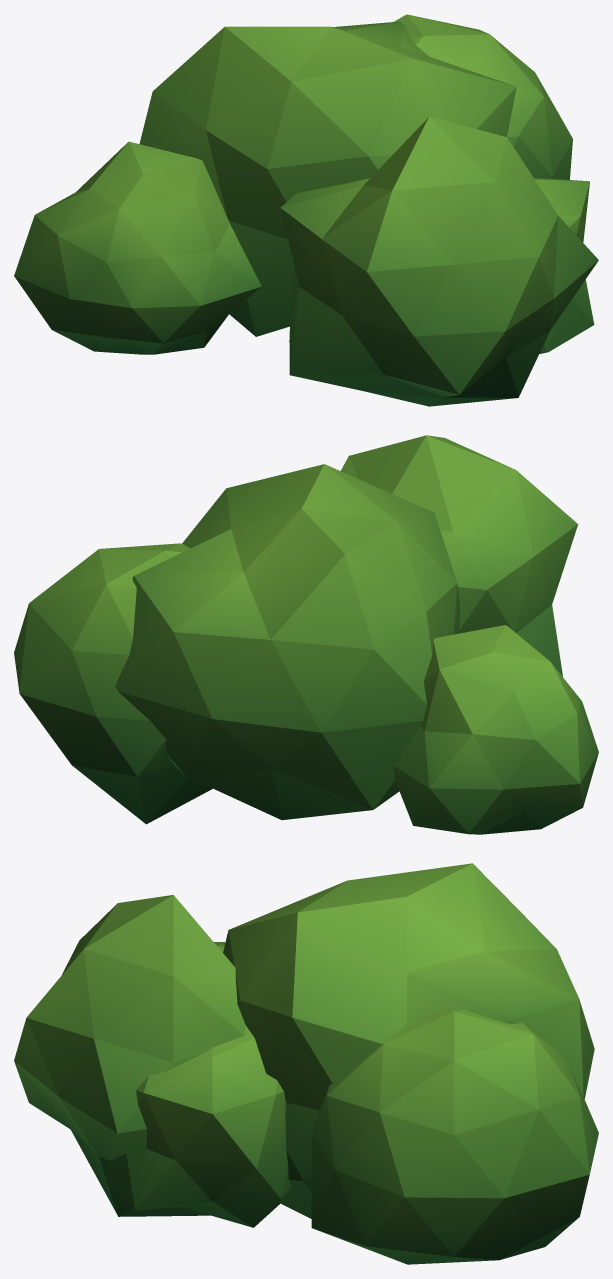
Rendered from f_bush4.glb.
The picture shows the model from 3 angles, top to bottom: view 1: azimuth 30°, elevation 25°; view 2: azimuth 150°, elevation 25°; view 3: azimuth 270°, elevation 25°; orthographic projection. The views are drawn at different scales.
Parts seen in each view (by area): view 1: bush4; view 2: bush4; view 3: bush4.
Boxes of the visible parts, x1,y1,x2,y2 form: bush4: (14,14,598,406); bush4: (14,435,598,834); bush4: (14,863,598,1264).
Size of the model in its own units: 2.58 by 1.34 by 2.31.
